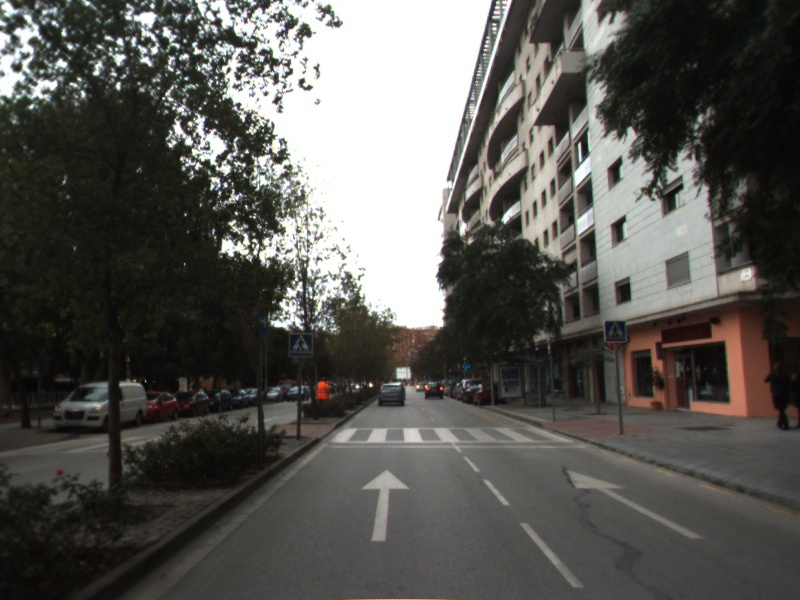STRAIGHT: (564, 467, 708, 541), (358, 466, 413, 544)
